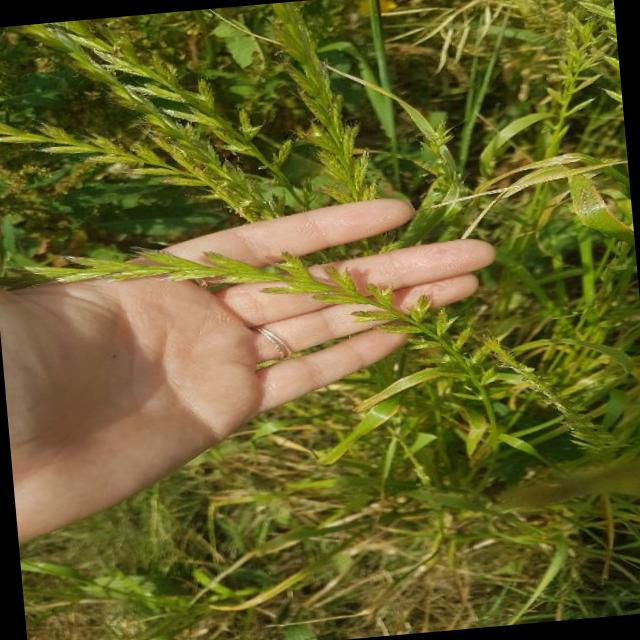Lolium: (22, 217, 572, 448), (42, 3, 300, 190), (0, 93, 313, 221), (534, 9, 618, 130)
